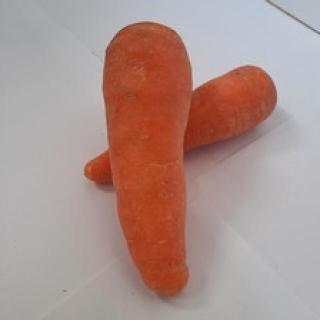carrot: (100, 18, 194, 300), (83, 62, 279, 190)
